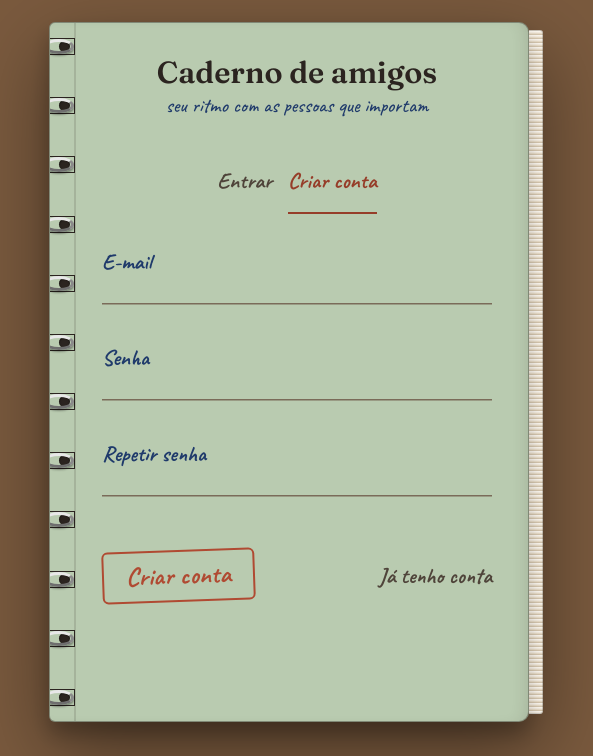
Test: account cover › links a register error to the affected field
This screenshot has width=593, height=756.
Type "ana@example.com" into the field named "email". click: [297, 286]
box: [102,262,492,310]
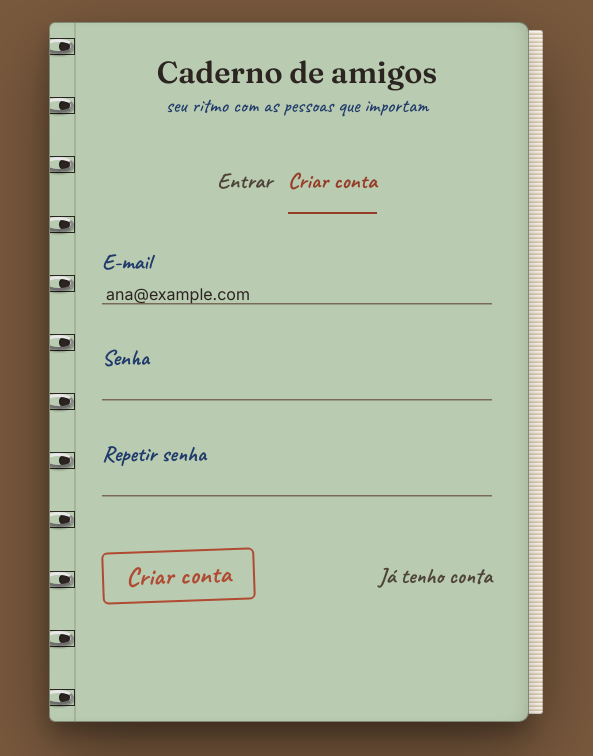
Type "senha-segura" into the password field named "password". click: [297, 382]
box: [102,358,492,406]
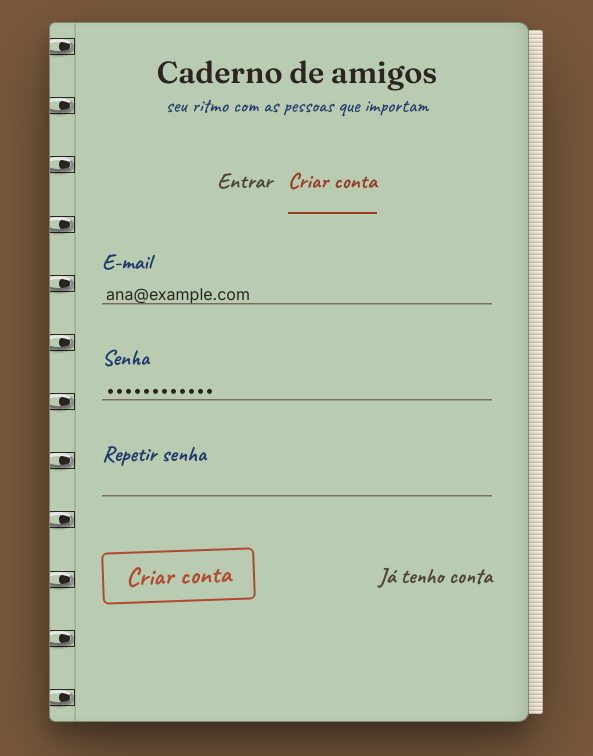
Type "senha-segura" into the password field named "password_confirm". click: [297, 478]
box: [102,454,492,502]
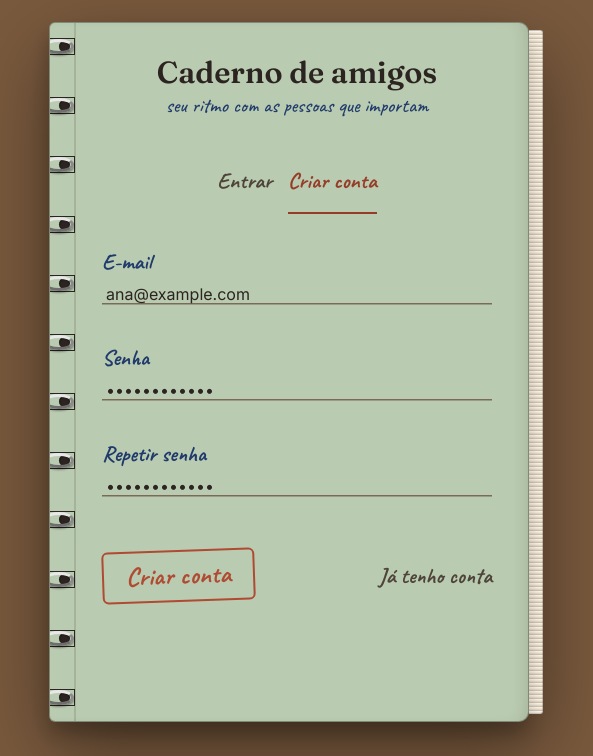
Submit the form, box [90,150,504,689]
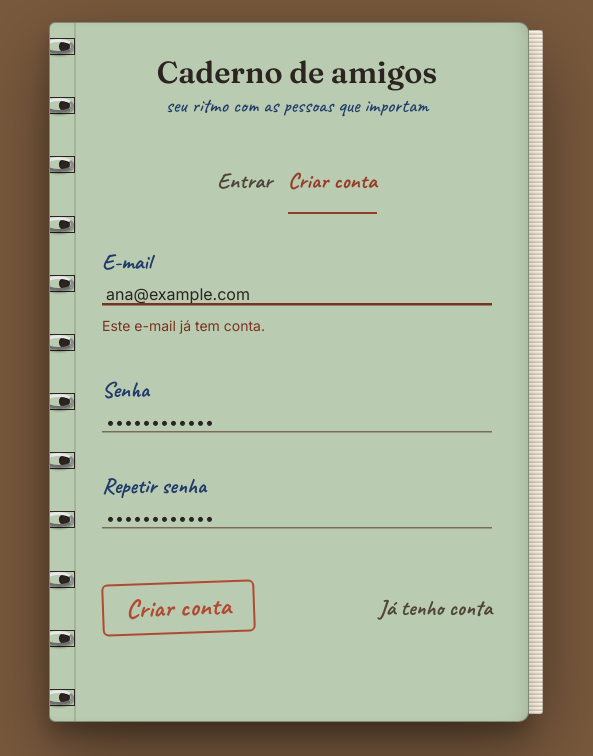
expect the message "Este e-mail já tem conta." is shown: met, box [102,317,265,334]
